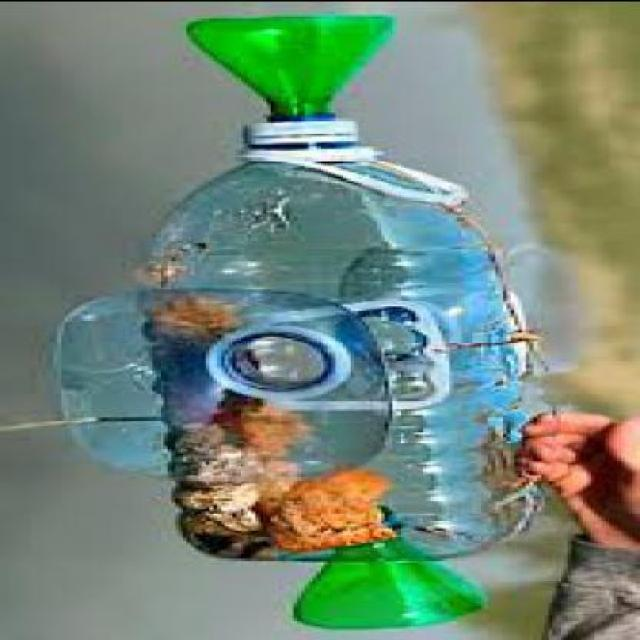PLASTIC: (133, 110, 541, 558), (54, 282, 415, 476), (347, 240, 587, 382), (187, 11, 396, 147), (294, 502, 495, 624)
